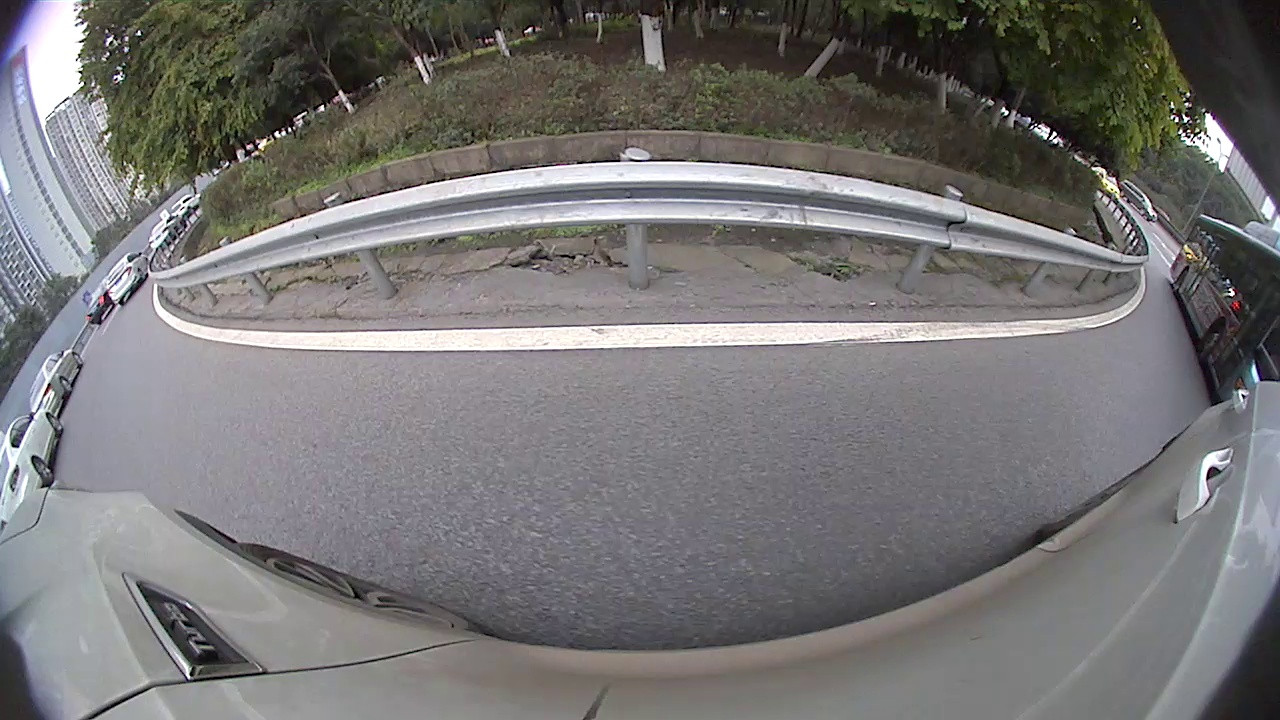bus: (1168, 205, 1279, 414)
car: (0, 403, 65, 526), (28, 340, 86, 408), (105, 247, 153, 309), (1118, 173, 1160, 223)
front: (1195, 321, 1227, 361), (44, 413, 66, 433), (71, 351, 84, 369)
rear: (31, 455, 56, 483), (1172, 267, 1189, 291), (59, 375, 74, 395)
